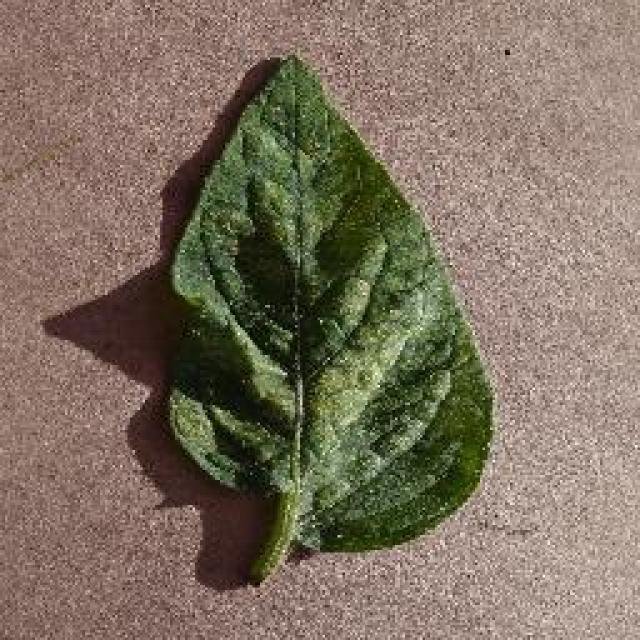Tomato mosaic virus leaf: (156, 57, 502, 565)
